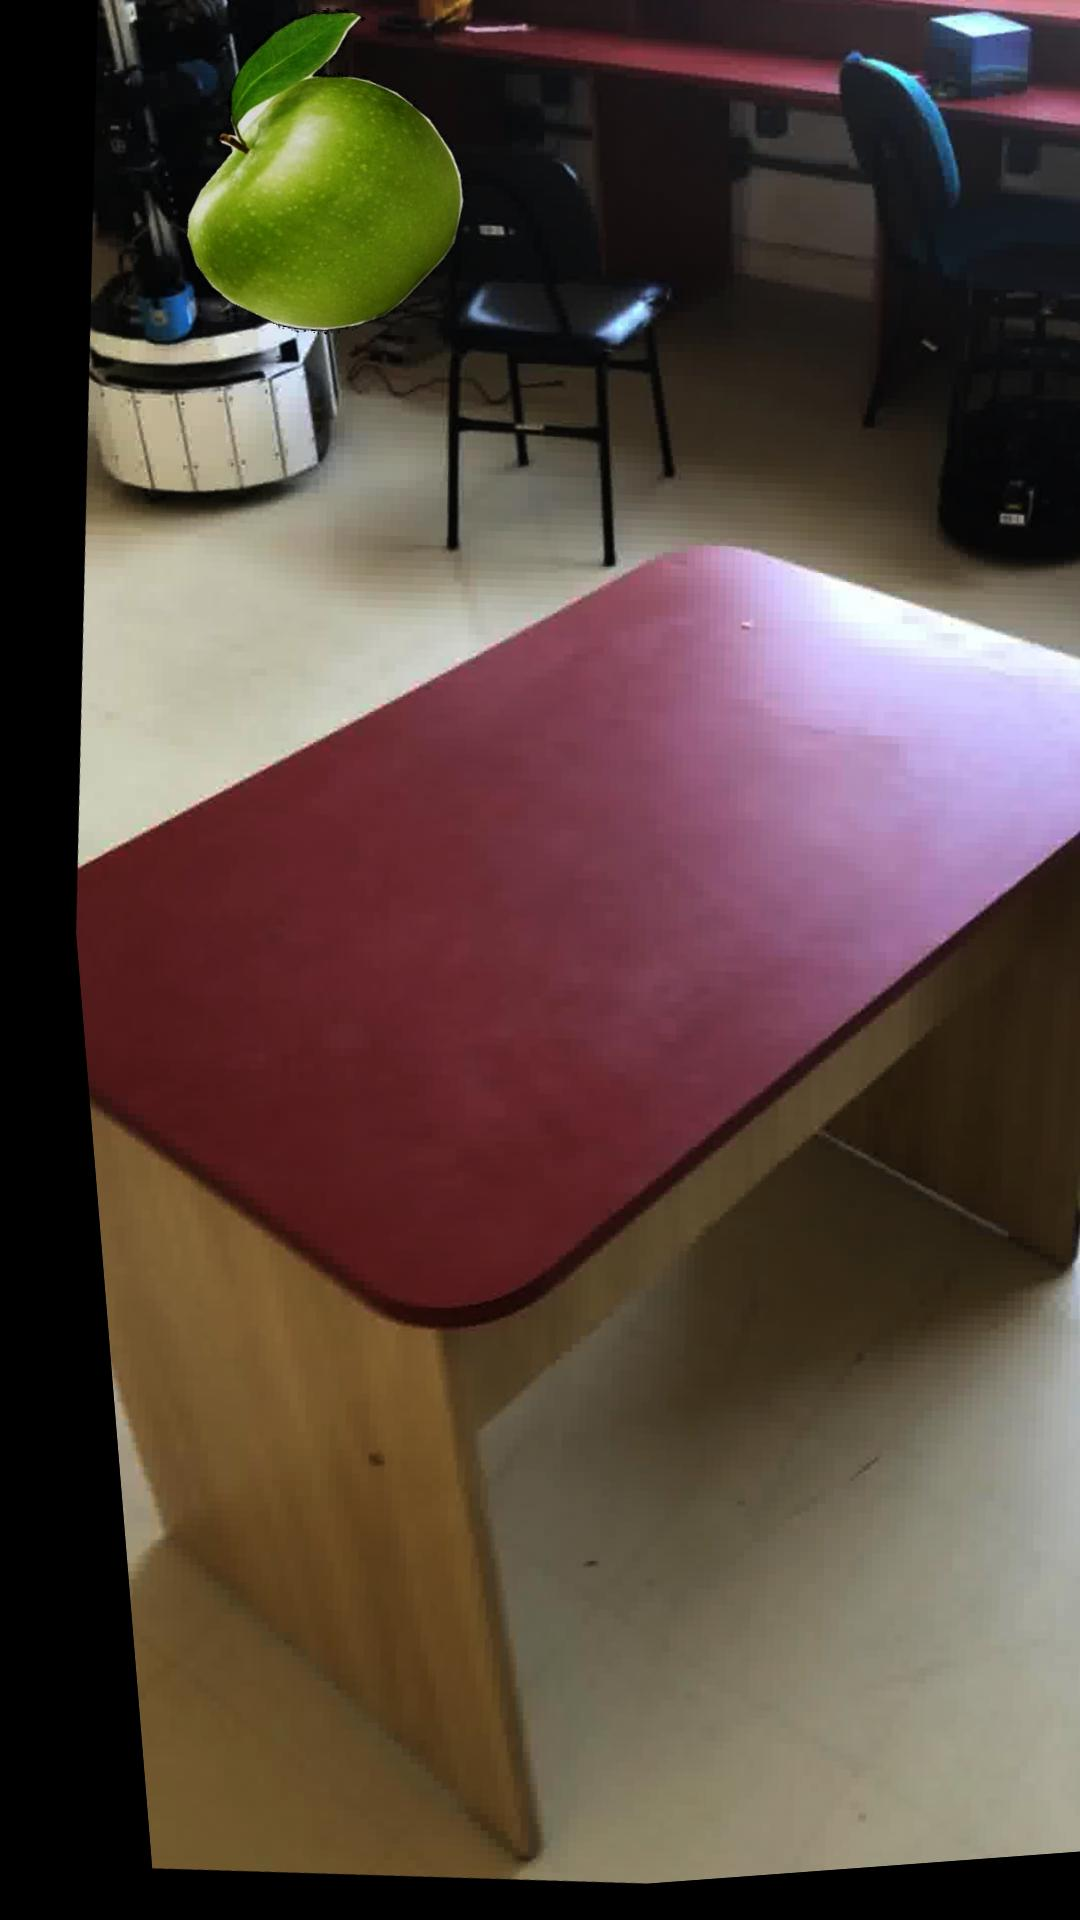green apple: (182, 12, 462, 335)
